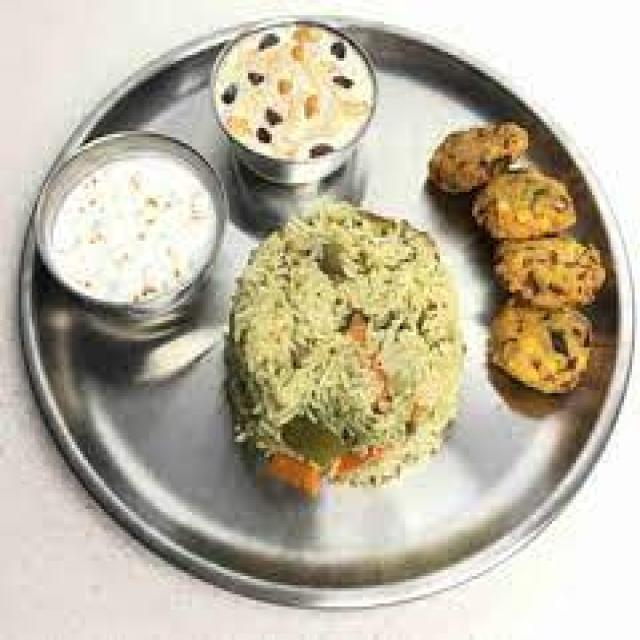curd: (35, 146, 220, 316)
raita: (40, 151, 222, 312)
rice: (225, 187, 472, 455)
veg-fry: (206, 17, 380, 174), (481, 295, 611, 406)
